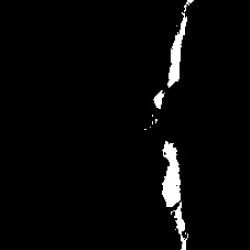crack: (154, 2, 193, 112), (162, 142, 182, 207), (171, 205, 186, 247), (144, 114, 158, 130)
